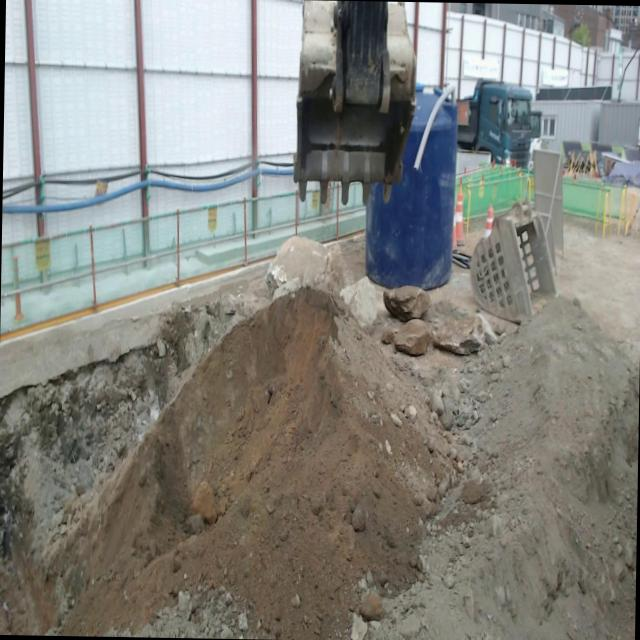red-sand: (64, 288, 452, 640)
stone: (266, 235, 350, 296), (431, 314, 484, 355), (339, 276, 377, 327), (383, 285, 430, 321), (393, 318, 432, 355)
white-sand: (365, 298, 639, 640)
